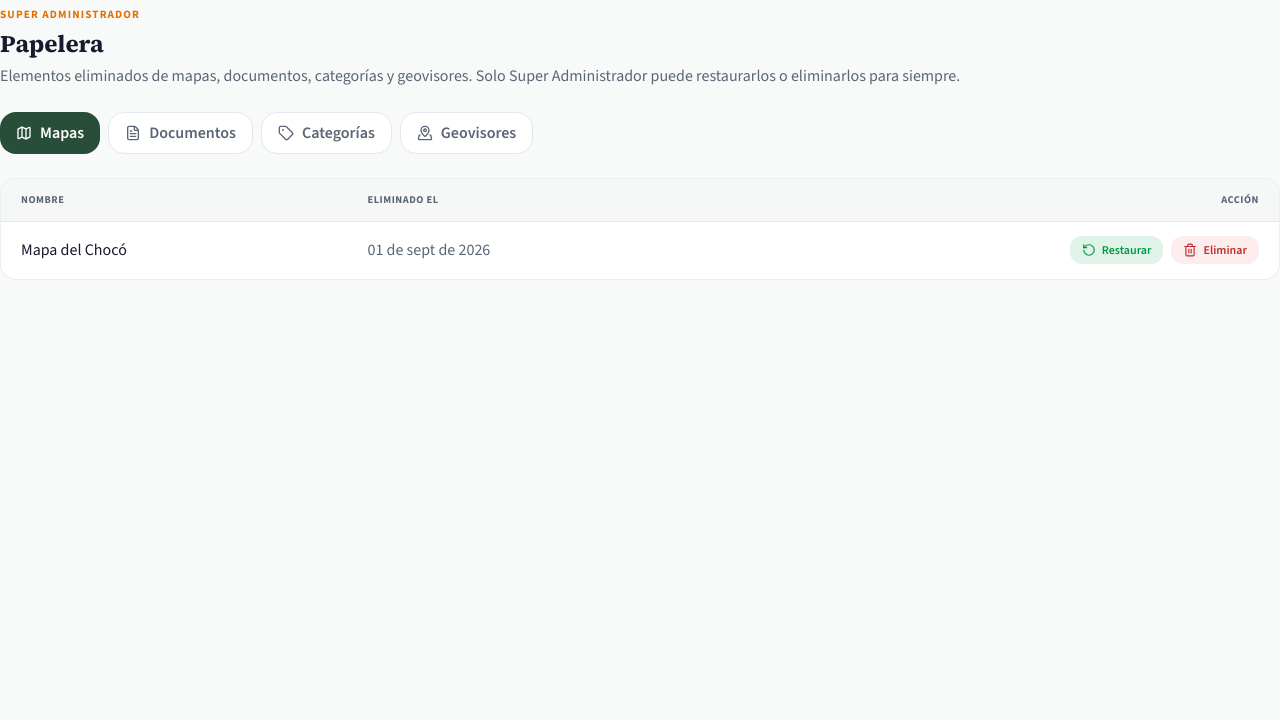
Test case: Papelera — eliminar permanentemente › si el servidor rechaza la purga, muestra un toast de error
Expected: the text "Mapa del Chocó" is shown, x1=1 y1=221 x2=348 y2=279
Click the button "Eliminar".
click(1215, 250)  # box x1=1172 y1=236 x2=1259 y2=264
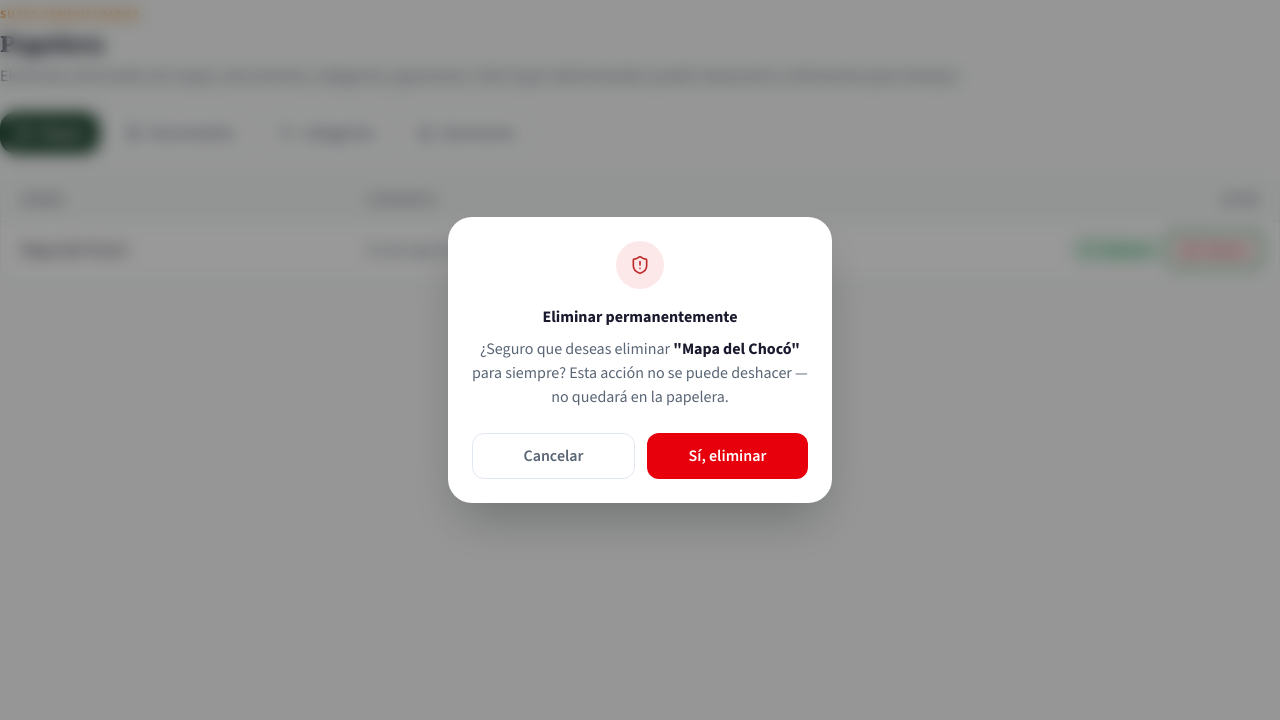
Click the button "Sí, eliminar".
click(728, 456)  # box x1=647 y1=433 x2=808 y2=479
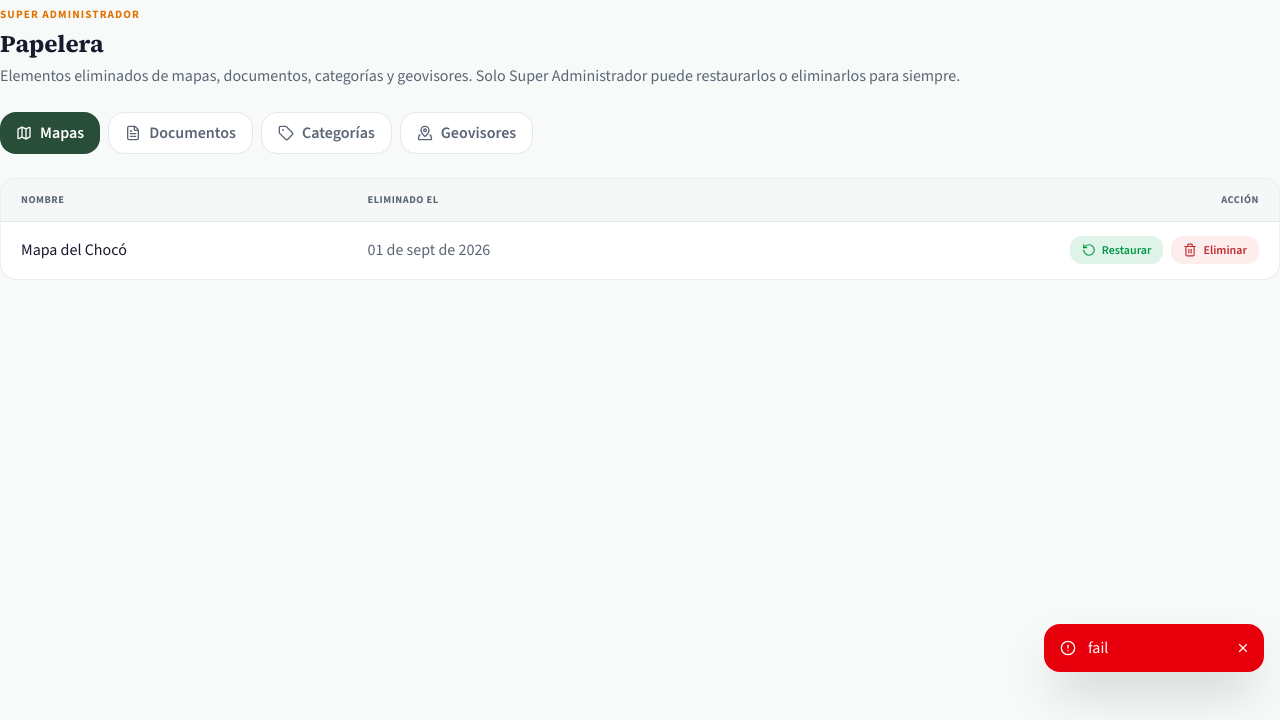
Expected: the text "fail" is shown, x1=1088 y1=637 x2=1108 y2=658
